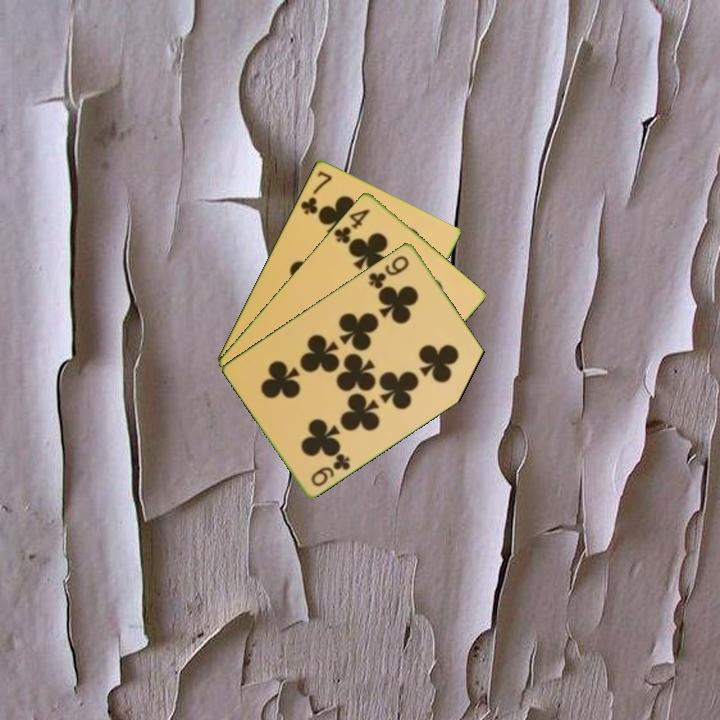4c: (330, 205, 373, 249)
7c: (297, 167, 335, 217)
9c: (307, 449, 353, 489), (365, 252, 412, 291)
